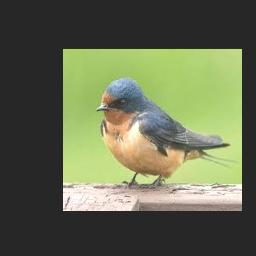Swallow: (96, 77, 237, 185)
